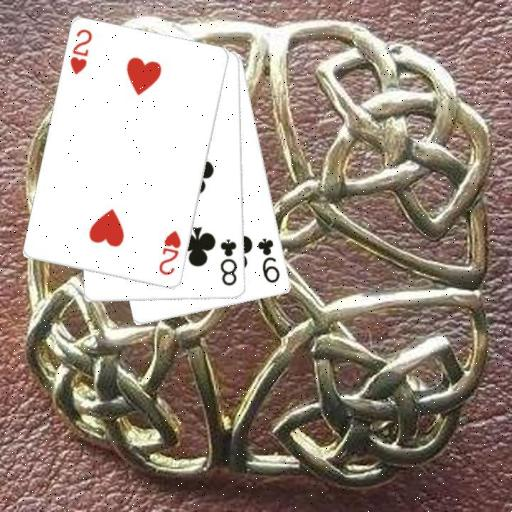2H: (156, 228, 183, 278), (67, 27, 94, 77)
8C: (217, 236, 239, 287)
9C: (255, 235, 283, 285)
